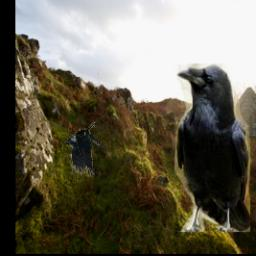Crow: (175, 63, 251, 232), (62, 121, 104, 178)
